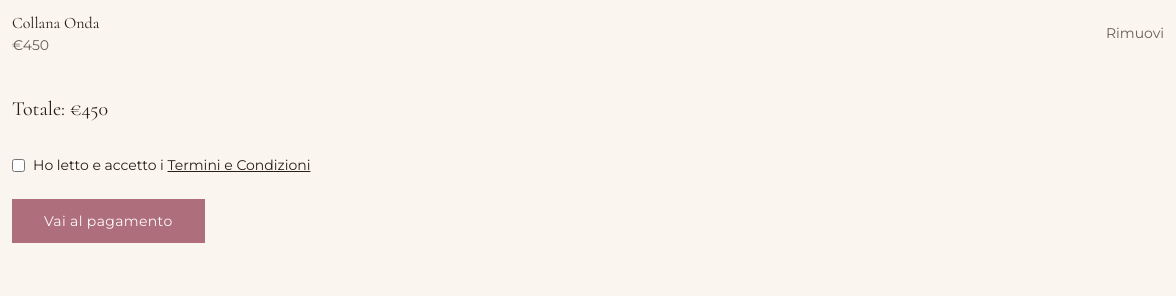
Test case: CartPageClient › shows the error instead of navigating when the server answers without a url
This screenshot has width=1176, height=296.
Click the checkbox: (18, 166) x1=12 y1=159 x2=25 y2=172
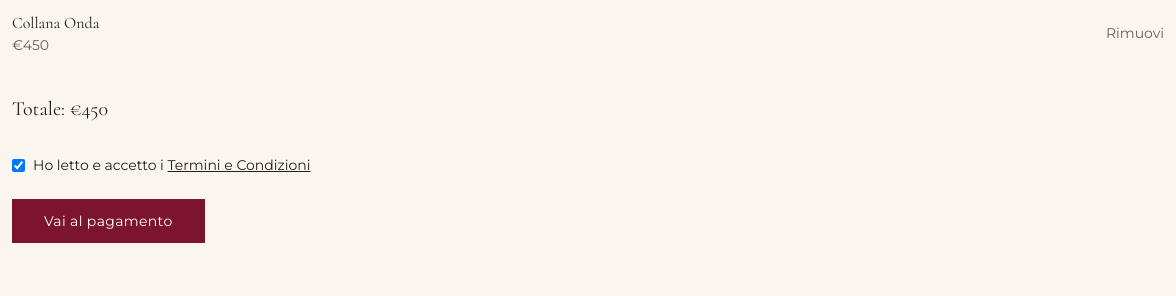
Click the button "Vai al pagamento": (108, 221) x1=12 y1=199 x2=204 y2=243
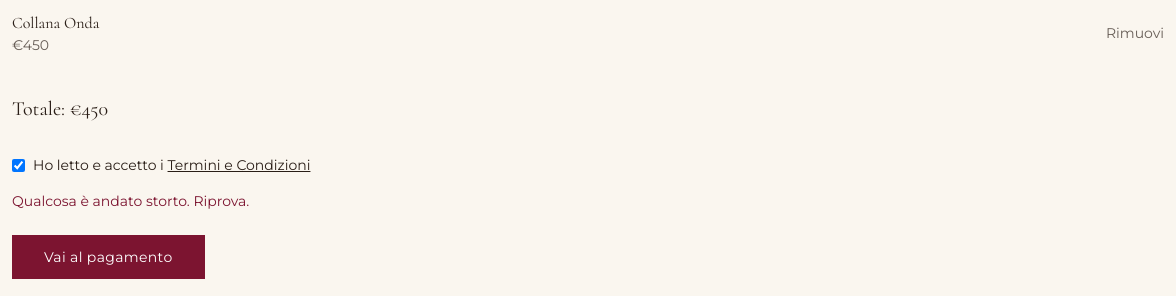
Check: the text "Qualcosa è andato storto. Riprova." is shown, box x1=12 y1=192 x2=249 y2=210
